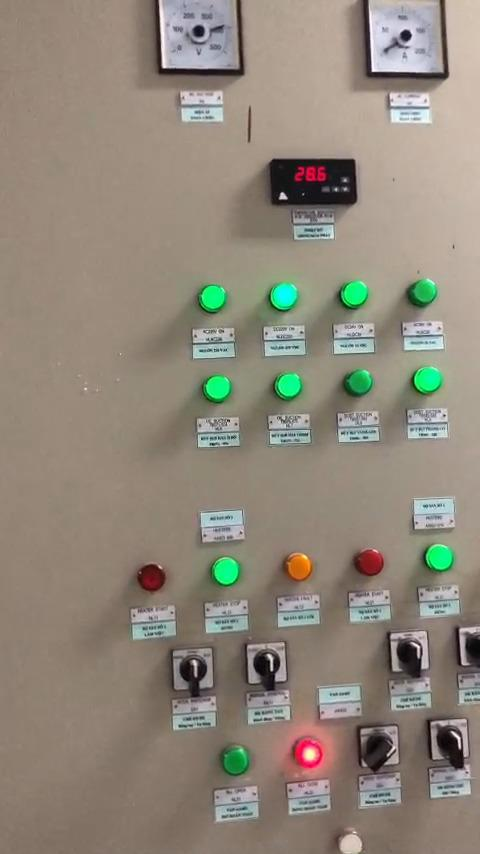led: (223, 746, 256, 779), (134, 562, 166, 592), (295, 739, 326, 769), (407, 280, 436, 310), (269, 284, 299, 313), (354, 548, 383, 578), (285, 552, 313, 582), (345, 371, 373, 400), (417, 364, 444, 394), (427, 544, 454, 574), (198, 283, 225, 311), (342, 280, 370, 306), (217, 558, 243, 586), (277, 374, 305, 399), (339, 830, 368, 854), (205, 376, 231, 401)
twist: (173, 646, 215, 691), (363, 728, 403, 772), (249, 641, 288, 685), (389, 633, 429, 674), (433, 720, 469, 762), (458, 628, 480, 668)
